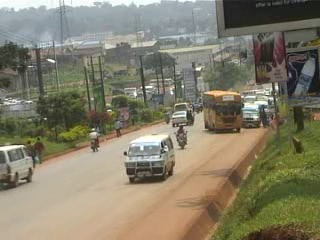Car: (170, 107, 195, 127)
Motorcycle: (172, 126, 188, 150), (87, 129, 100, 152), (160, 110, 171, 124), (191, 104, 201, 115)
